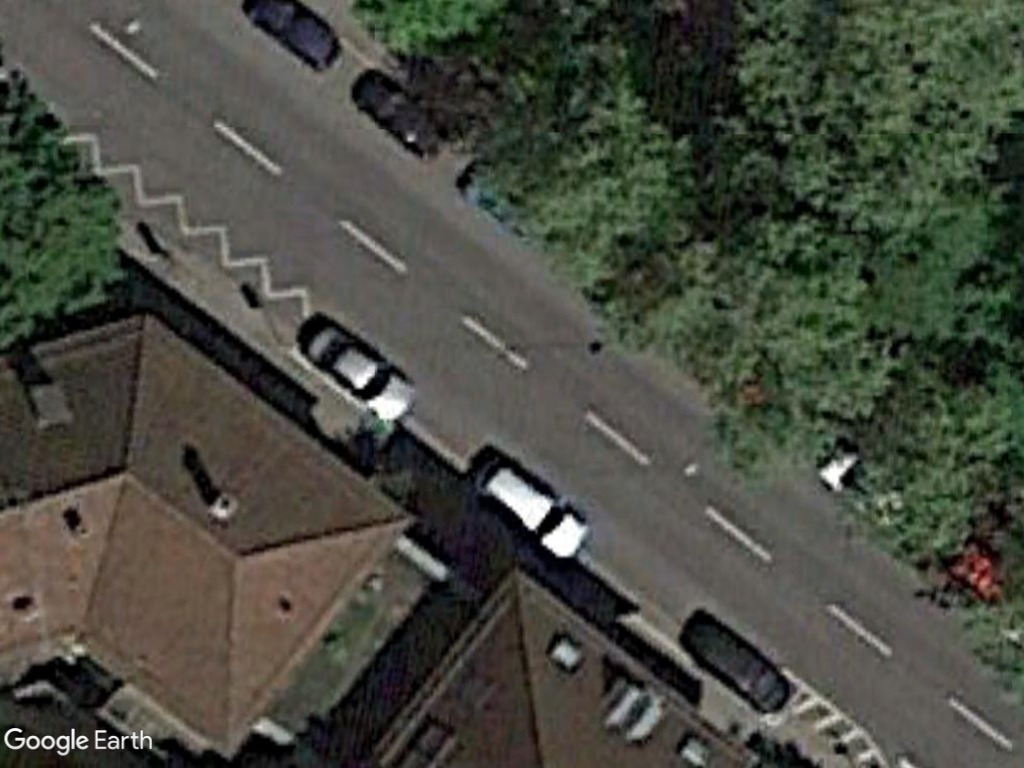car: (473, 454, 597, 568), (304, 319, 418, 424)
